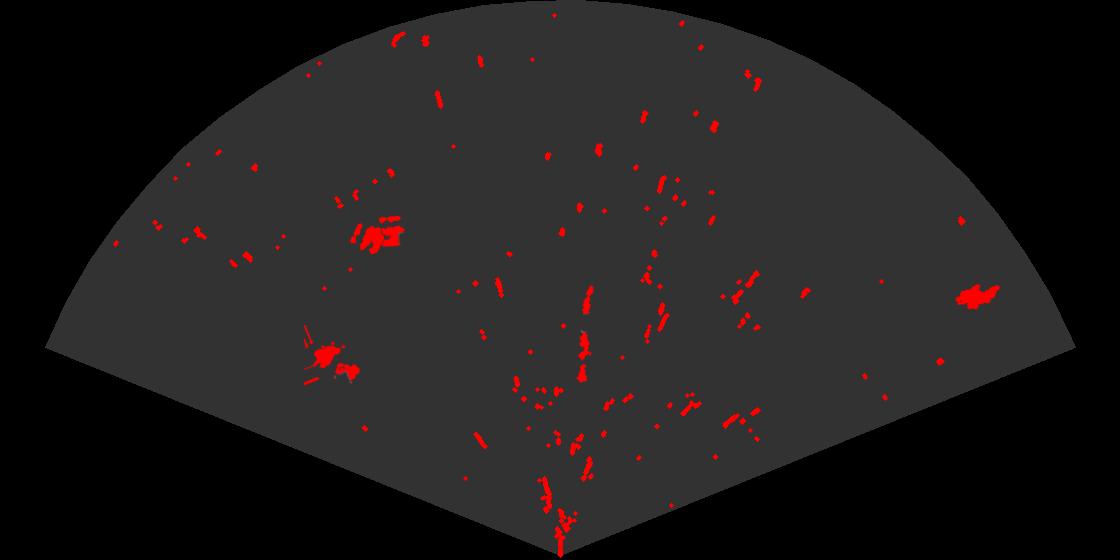AUV: (954, 283, 1001, 311)
ball: (348, 222, 386, 256), (376, 214, 407, 248)
cage: (304, 325, 362, 387)
chain: (575, 284, 595, 383)
